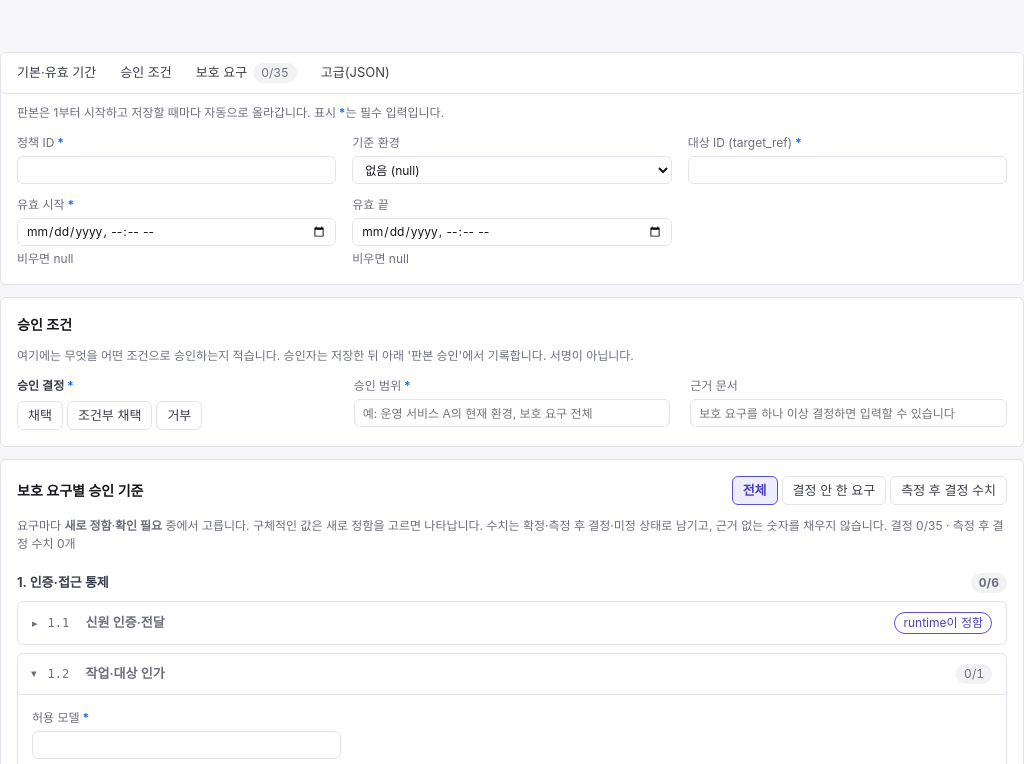
Test case: policy form › follows the base environment for target and models
Select "env-a" in the dropdown named "env-a": (512, 170) [352, 156, 672, 184]
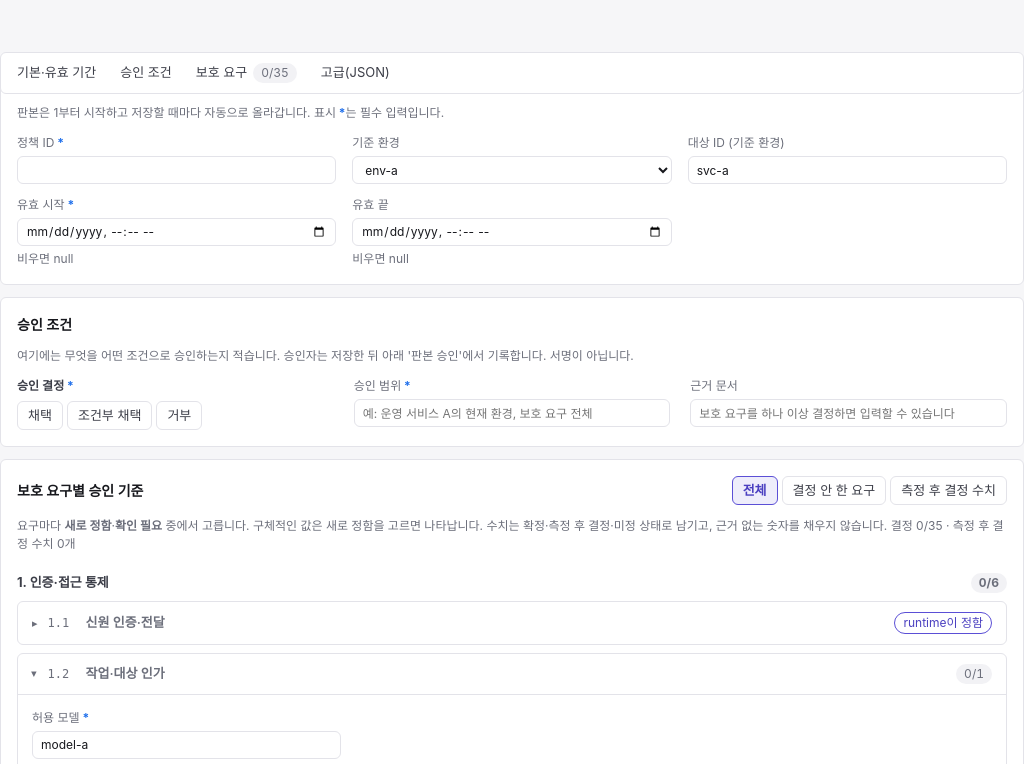
Check: the text labelled "target_ref" is gone
